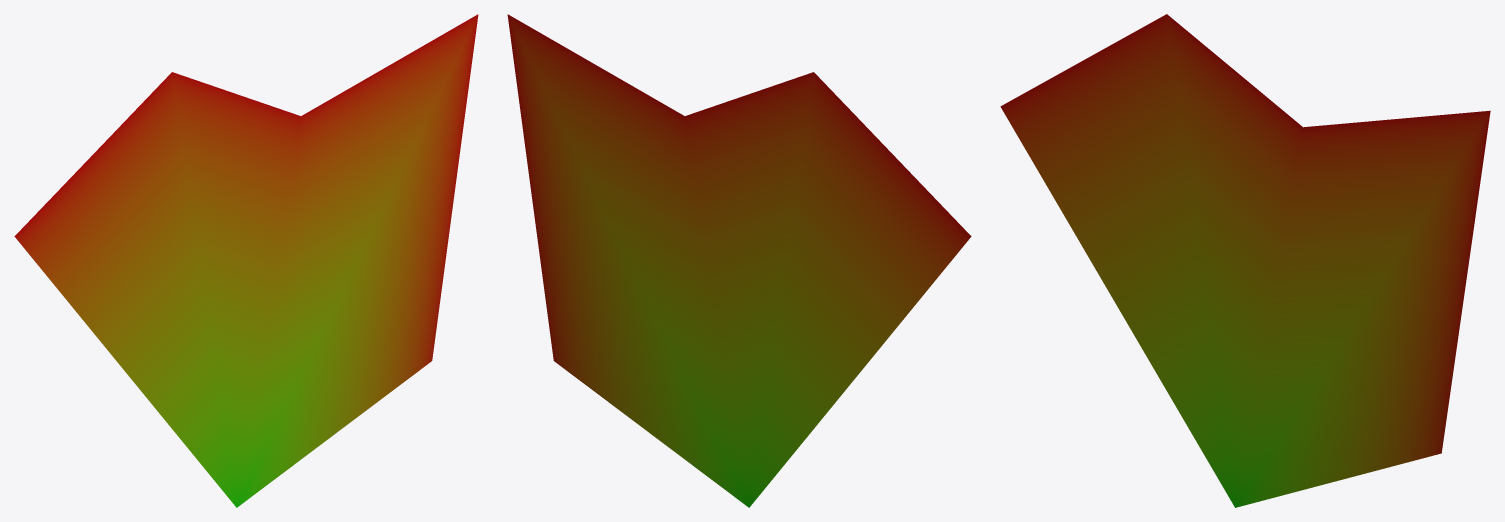
The model's file is European Spindle_LOD4_Var1.fbx.
3 views of the same model, side by side, from view 1: azimuth 30°, elevation 25°; view 2: azimuth 150°, elevation 25°; view 3: azimuth 330°, elevation 25° (orthographic). The views are drawn at different scales.
Parts seen in each view (by area): view 1: _t2qc_Var1_LOD4; view 2: _t2qc_Var1_LOD4; view 3: _t2qc_Var1_LOD4.
Boxes of the visible parts, bbox=[...] form: _t2qc_Var1_LOD4: bbox=[14, 14, 478, 507]; _t2qc_Var1_LOD4: bbox=[507, 14, 971, 507]; _t2qc_Var1_LOD4: bbox=[1000, 14, 1490, 507].
Bounding box in the file's own units: 25.42 × 23.65 × 0.
